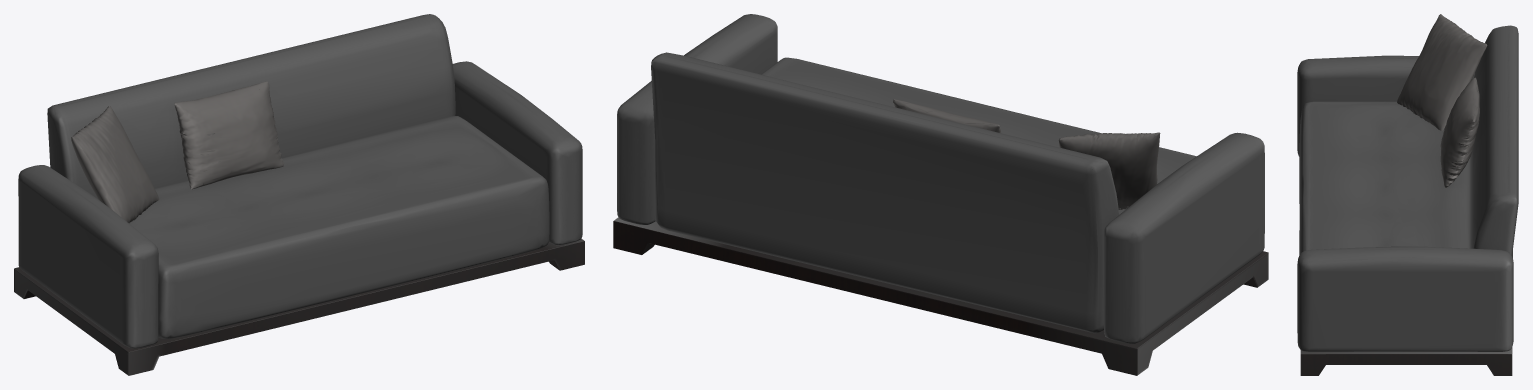
The model's file is raw_model.obj.
3 renders of one model, left to right at view 1: azimuth 30°, elevation 25°; view 2: azimuth 150°, elevation 25°; view 3: azimuth 270°, elevation 25°, orthographic. The views are drawn at different scales.
Visible parts, largest first — view 1: solid_002, solid_001, solid_003; view 2: solid_002, solid_003, solid_001; view 3: solid_002, solid_001, solid_003.
Part boxes in pixels (x1=…): solid_002: x1=18, y1=14, x2=582, y2=348; solid_001: x1=71, y1=81, x2=284, y2=223; solid_003: x1=14, y1=238, x2=584, y2=375; solid_002: x1=617, y1=14, x2=1264, y2=343; solid_003: x1=613, y1=217, x2=1268, y2=375; solid_001: x1=893, y1=99, x2=1160, y2=209; solid_002: x1=1297, y1=25, x2=1518, y2=351; solid_001: x1=1397, y1=14, x2=1487, y2=187; solid_003: x1=1300, y1=347, x2=1512, y2=375.
Size of the model in its own units: 2 by 0.7495 by 0.9098.
1 material, 1 textured.
